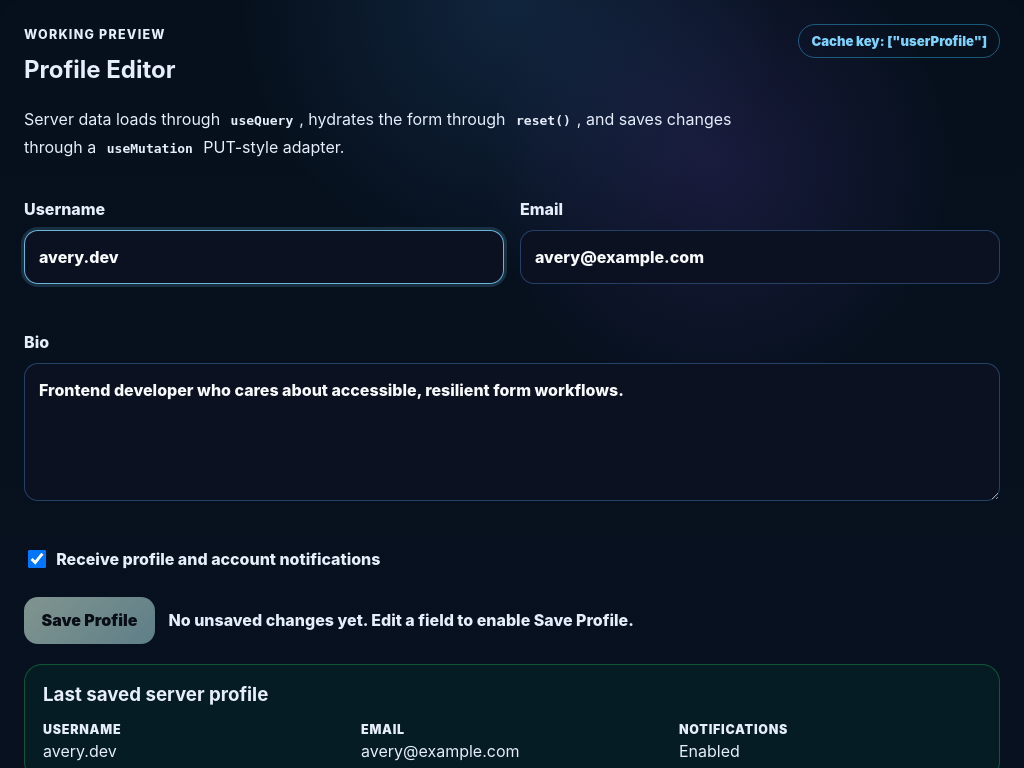
Scenario: Week 7 Assignment 3 - React Hook Form with TanStack Query › edge case: maps simulated 409 email conflict into the email field error
The width and height of the screenshot is (1024, 768).
Expected: the field showing "avery.dev" is shown, x1=24 y1=230 x2=504 y2=284
Replace the text in the field labelled "Email" with "conflict@example.com": [760, 257] box x1=520 y1=230 x2=1000 y2=284
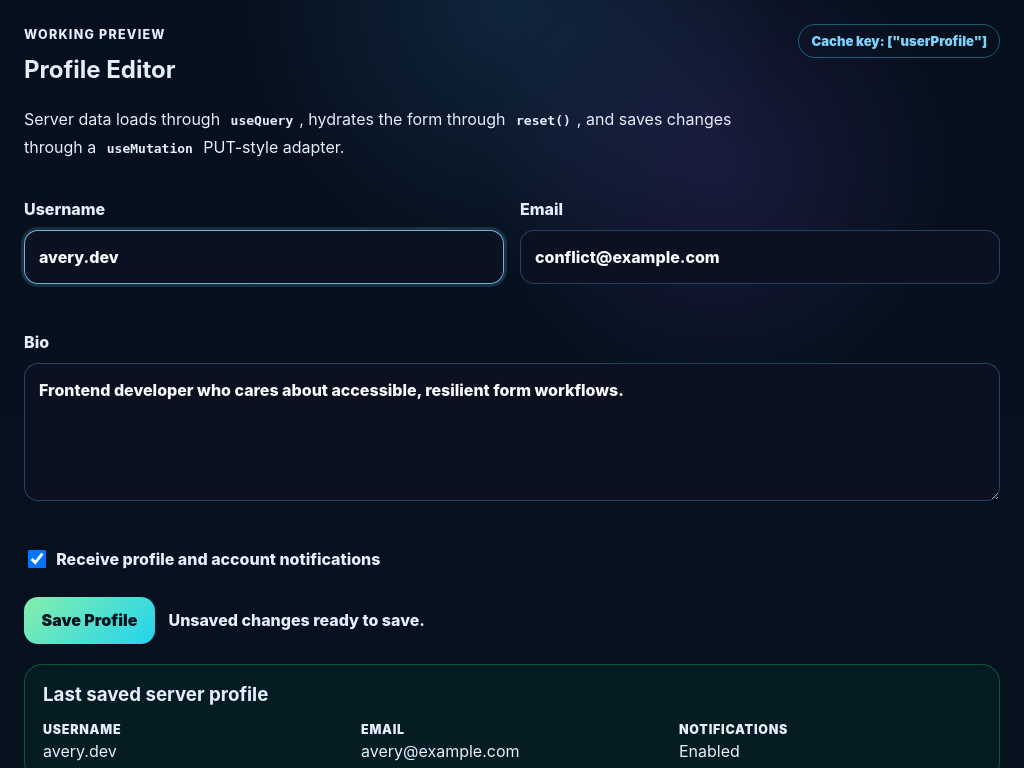
Expected: the button "Save Profile" is enabled
Click the button "Save Profile": [89, 620] box x1=24 y1=597 x2=155 y2=644
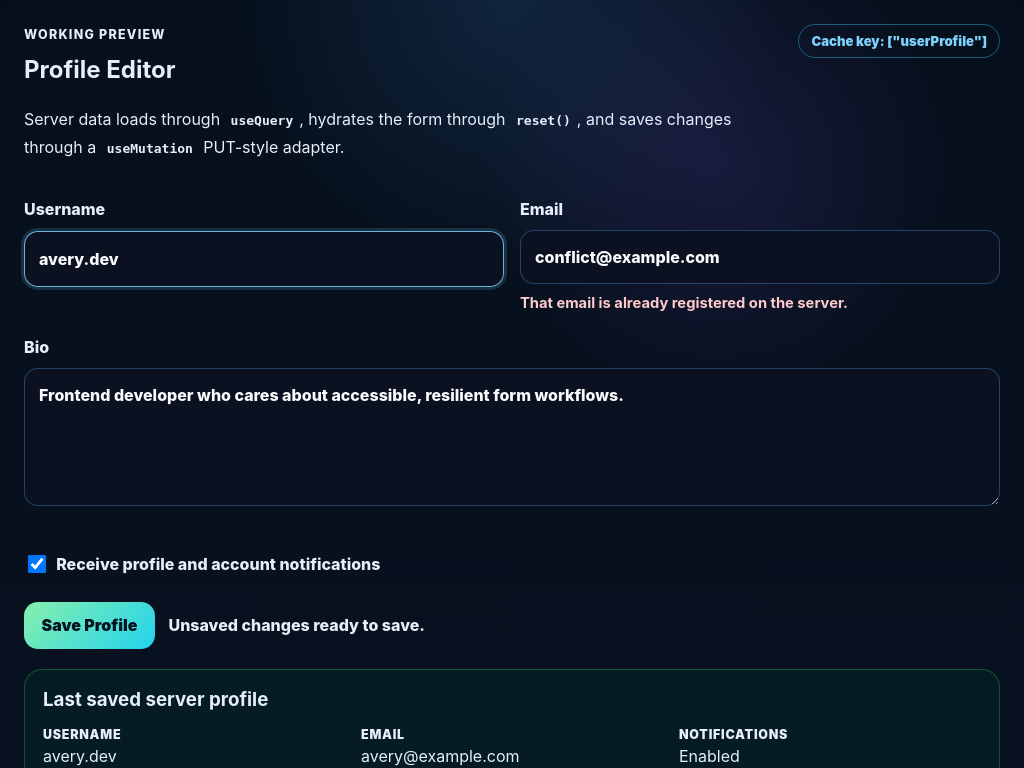
Expected: the text "That email is already registered on the server." is shown, x1=520 y1=294 x2=848 y2=312
